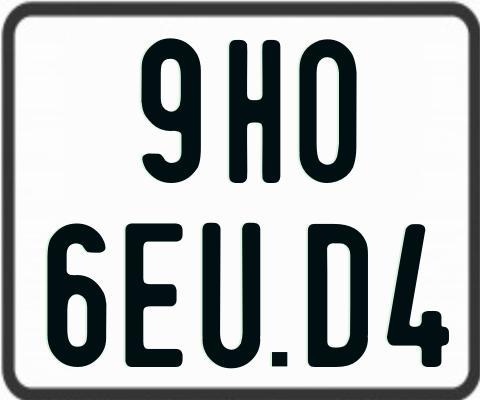0: (299, 36, 358, 183)
4: (387, 224, 453, 370)
6: (44, 222, 107, 368)
9: (140, 35, 206, 185)
D: (307, 221, 373, 364)
E: (124, 221, 183, 365)
H: (228, 39, 282, 186)
U: (199, 220, 258, 370)
